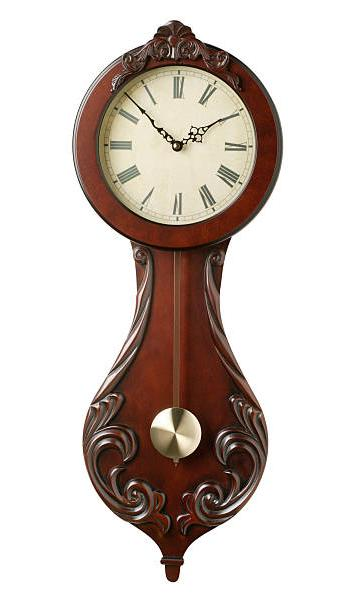clock: (64, 21, 289, 250)
